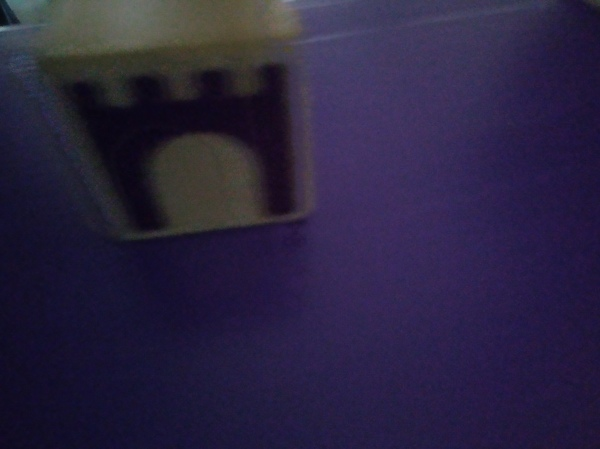violet: (40, 8, 304, 231)
